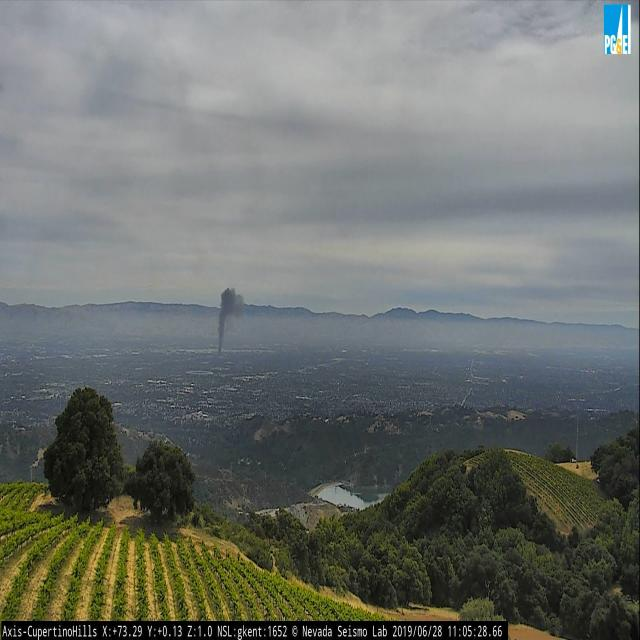smoke: (217, 286, 244, 356)
